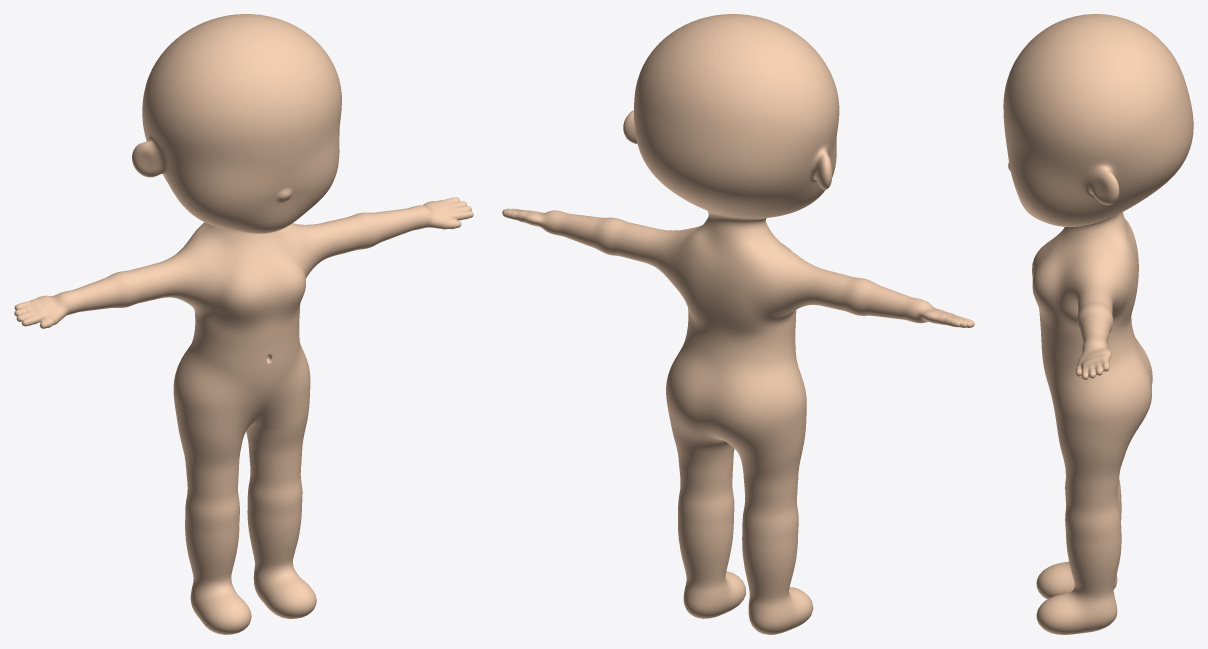
The model's file is female_small.fbx.
3 renders of one model, left to right at view 1: azimuth 30°, elevation 25°; view 2: azimuth 150°, elevation 25°; view 3: azimuth 270°, elevation 25°, orthographic. The views are drawn at different scales.
Visible parts, largest first — view 1: Body.001; view 2: Body.001; view 3: Body.001.
Boxes of the visible parts, <box> form: Body.001: <box>14,14,473,634</box>; Body.001: <box>502,14,974,634</box>; Body.001: <box>1003,14,1193,634</box>.
Bounding box in the file's own units: 120 × 148 × 43.32.
